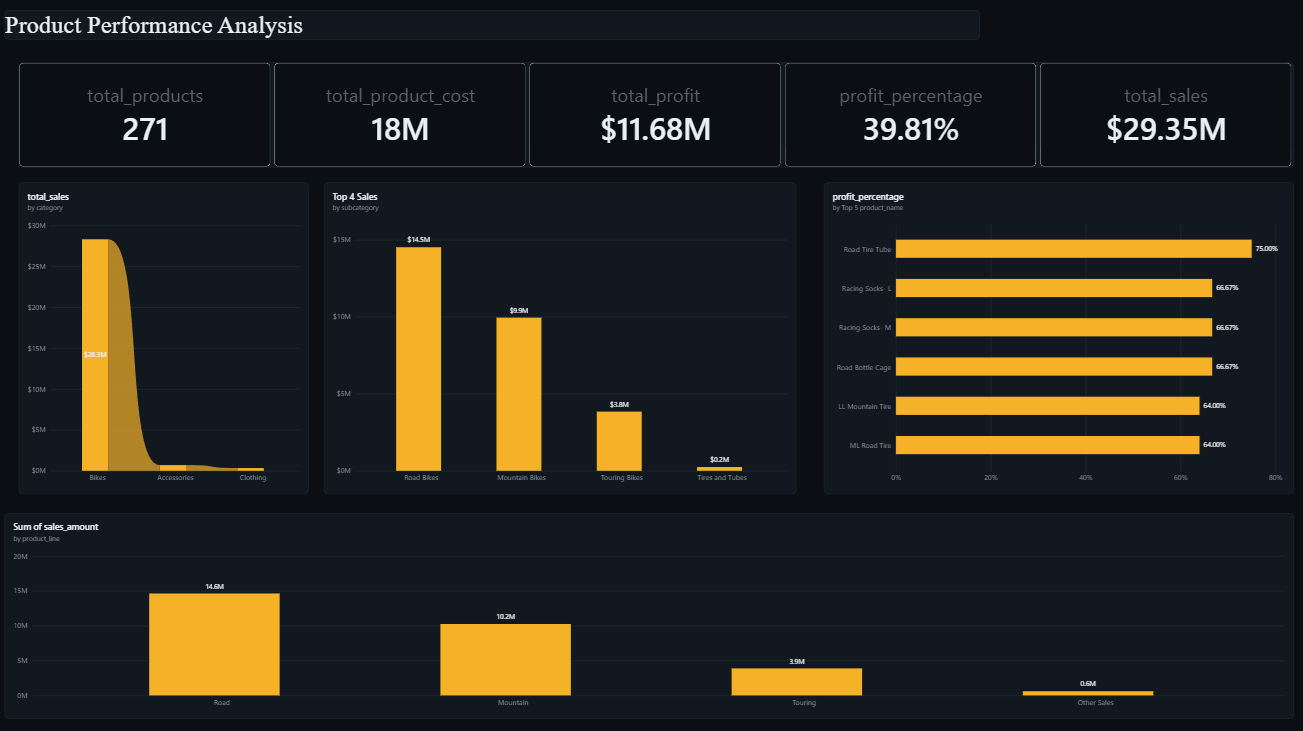

The dashboard page shown, as its layout file describes it:
{"tool":"powerbi","page":{"name":"Page 3","canvas":[2560,1440],"ordinal":2},"visuals":[{"type":"textbox","box":[10,22.5,1910,57.5],"z":0},{"type":"cardVisual","fields":{"Data":["_measure.total_products","_measure.total_product_cost","_measure.total_profit","_measure.profit_percentage","_measure.total_sales"]},"box":[37.5,125,2497.5,205],"z":1000},{"type":"ribbonChart","fields":{"Category":["gold dim_products.category"],"Y":["_measure.total_sales"]},"box":[37.5,360,567.5,610],"z":2000},{"type":"clusteredColumnChart","title":"Top 4 Sales","fields":{"Category":["gold dim_products.subcategory"],"Y":["_measure.total_sales"]},"box":[637.5,360,925,610],"z":3000},{"type":"barChart","title":"profit_percentage","fields":{"Category":["gold dim_products.product_name"],"Y":["_measure.profit_percentage"]},"box":[1615,360,920,610],"z":4000},{"type":"clusteredColumnChart","fields":{"Category":["gold dim_products.product_line"],"Y":["Sum(gold fact_sales.sales_amount)"]},"box":[10,1007.5,2525,402.5],"z":5000}]}

Visuals, with their boxes in screenshot pixels (x1, y1, x2, y2), scaled from the page's 2560x1440 canvas onto the 1303x731 screenshot:
textbox: left=5, top=11, right=977, bottom=41
cardVisual - _measure.total_products x _measure.total_product_cost: left=19, top=63, right=1290, bottom=168
ribbonChart - gold dim_products.category x _measure.total_sales: left=19, top=183, right=308, bottom=492
"Top 4 Sales" clusteredColumnChart: left=324, top=183, right=795, bottom=492
"profit_percentage" barChart: left=822, top=183, right=1290, bottom=492
clusteredColumnChart - gold dim_products.product_line x Sum(gold fact_sales.sales_amount): left=5, top=511, right=1290, bottom=716
